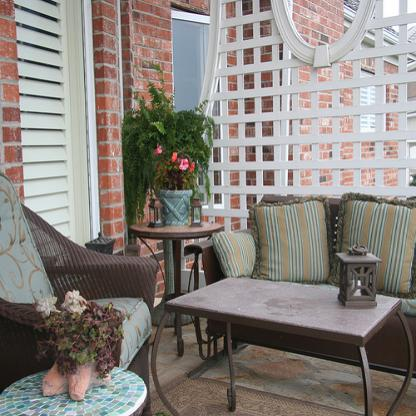chair: (0, 169, 160, 415)
pottedplant: (124, 80, 216, 228), (32, 294, 124, 401)
sofa: (181, 192, 415, 372)
